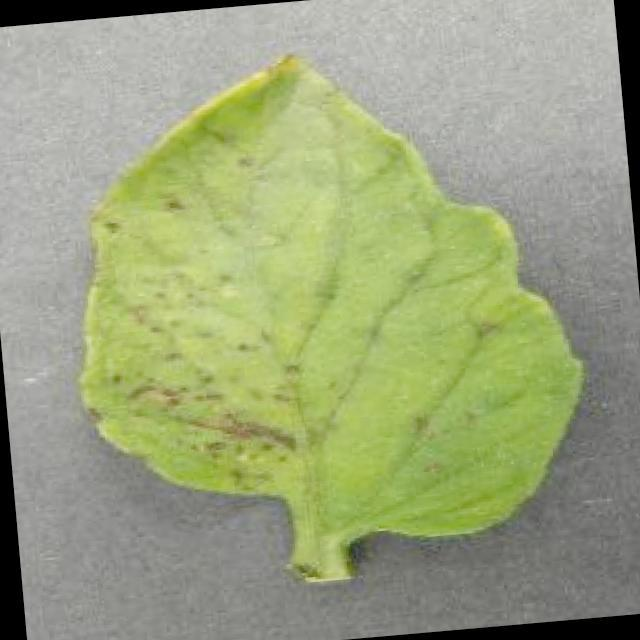Tomato bacterial spot leaf: (48, 25, 594, 572)
